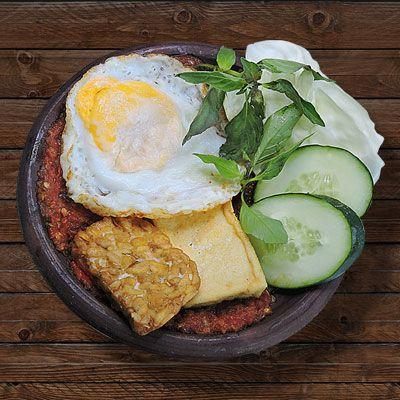buah_sayur_lainnya: (256, 87, 344, 245)
kacang_legume: (77, 219, 198, 333), (160, 202, 270, 301)
telur: (82, 69, 176, 204)
